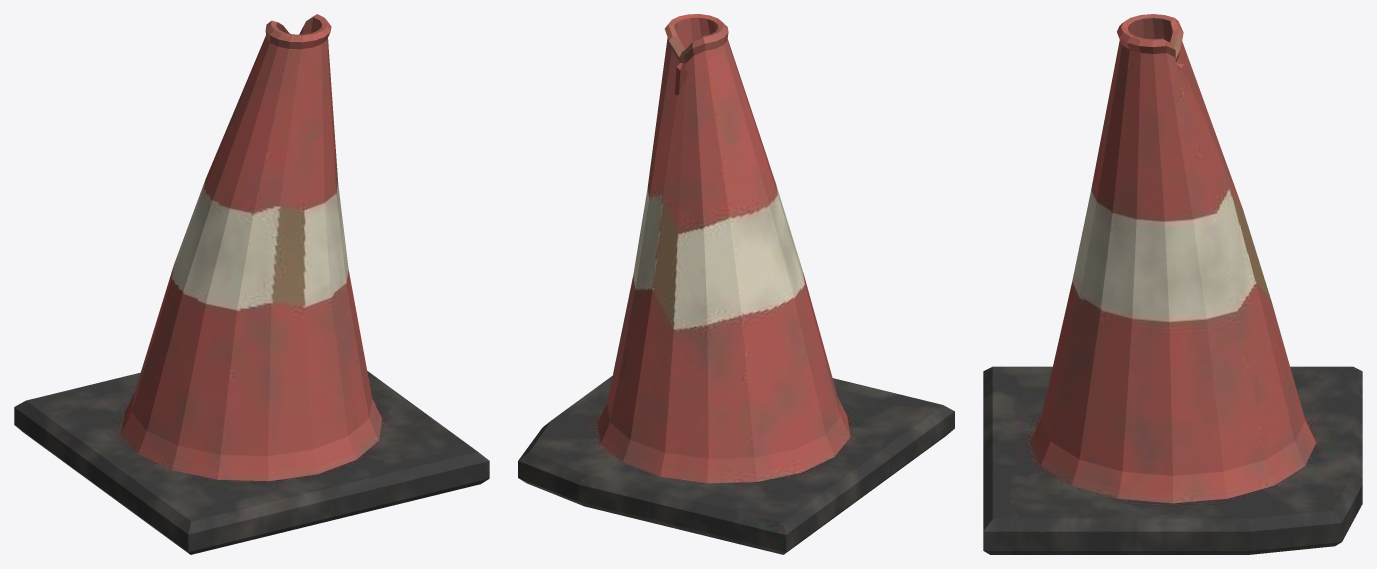
File: CS05_traffic_cones_v2.glb
The picture shows the model from 3 angles, left to right: view 1: azimuth 30°, elevation 25°; view 2: azimuth 150°, elevation 25°; view 3: azimuth 270°, elevation 25°; orthographic projection. The views are drawn at different scales.
Visible parts, largest first — view 1: Crushed yard cone; view 2: Crushed yard cone; view 3: Crushed yard cone.
Part boxes in pixels (x1,y1,x2,y2): Crushed yard cone: (14, 14, 489, 554); Crushed yard cone: (518, 14, 954, 554); Crushed yard cone: (983, 14, 1362, 554).
Bounding box in the file's own units: 0.5112 × 0.7 × 0.5112.
4 materials, 4 textured.
